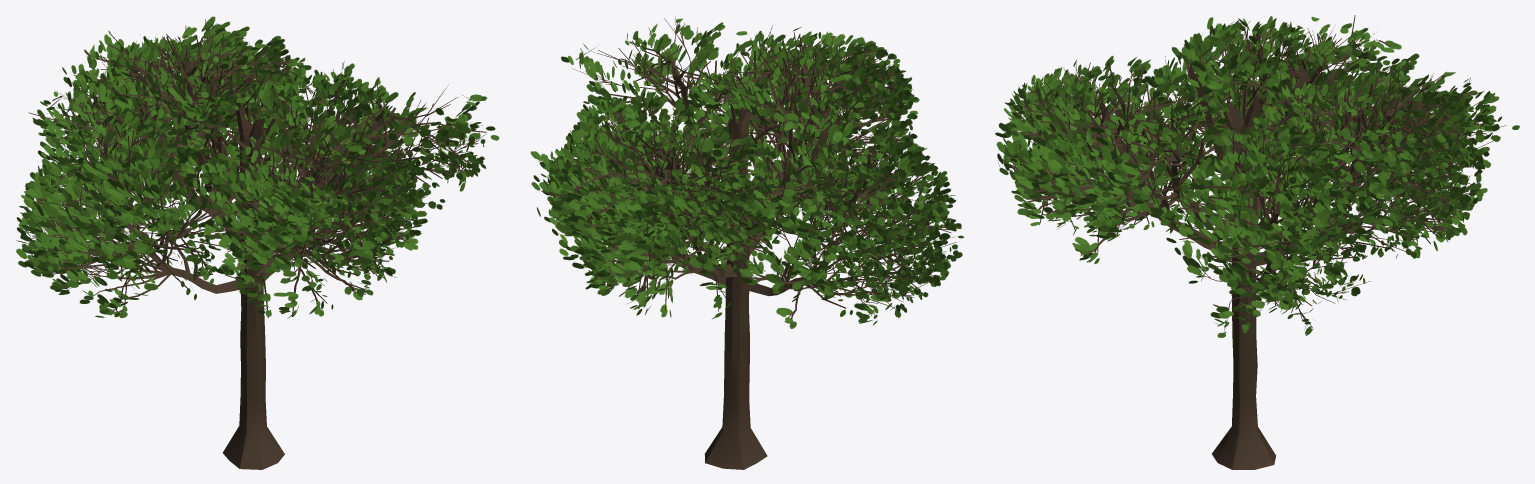
3 renders of one model, left to right at view 1: azimuth 30°, elevation 25°; view 2: azimuth 150°, elevation 25°; view 3: azimuth 270°, elevation 25°, orthographic. The views are drawn at different scales.
Visible parts, largest first — view 1: oak 01.001_trunk_Mat.001_0.054; view 2: oak 01.001_trunk_Mat.001_0.054; view 3: oak 01.001_trunk_Mat.001_0.054.
Part boxes in pixels (left/top/right/bottom): oak 01.001_trunk_Mat.001_0.054: left=16, top=16, right=499, bottom=469; oak 01.001_trunk_Mat.001_0.054: left=530, top=16, right=964, bottom=469; oak 01.001_trunk_Mat.001_0.054: left=995, top=15, right=1519, bottom=469.
Size of the model in its own units: 4.46 by 3.58 by 4.57.
Materials: 2 (1 with a texture image).
